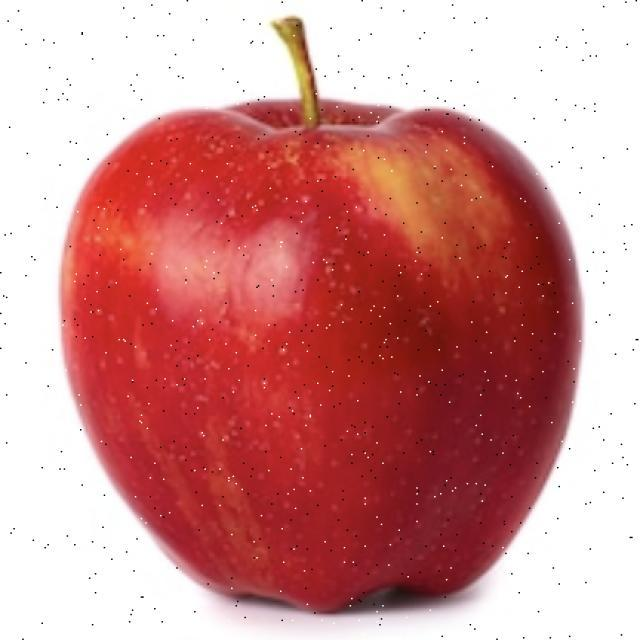Fresh Apple: (65, 100, 588, 614)
